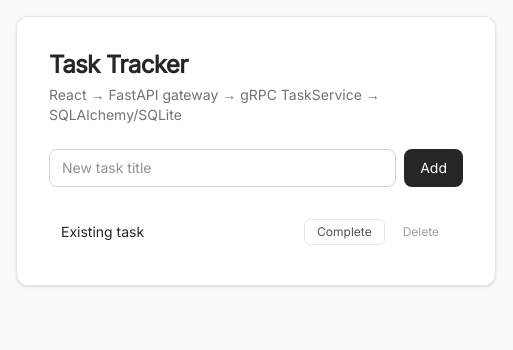
Test case: App › adds a new task via the form
expect the text "Existing task" is shown: met, box [61,222,144,242]
Type "New task" into the field with placeholder "New task title" at (223, 168), box [49,149,396,187]
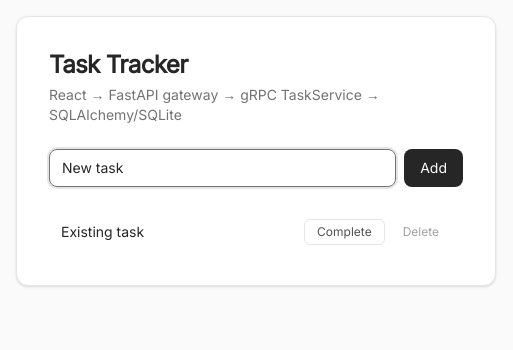
Click the button "Add" at (434, 168), box [404,149,463,187]
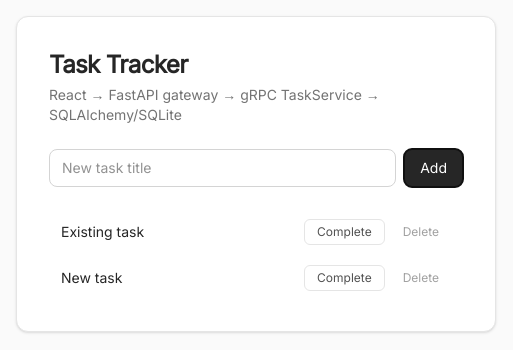
expect the text "New task" is shown: met, box [61,268,122,288]
